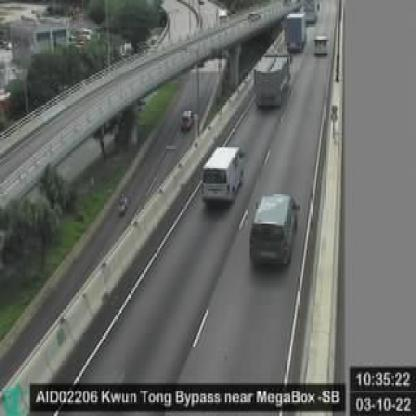Car: (248, 194, 298, 267), (203, 142, 243, 203), (313, 33, 328, 59)
Truck: (252, 48, 289, 108), (284, 12, 308, 49)
